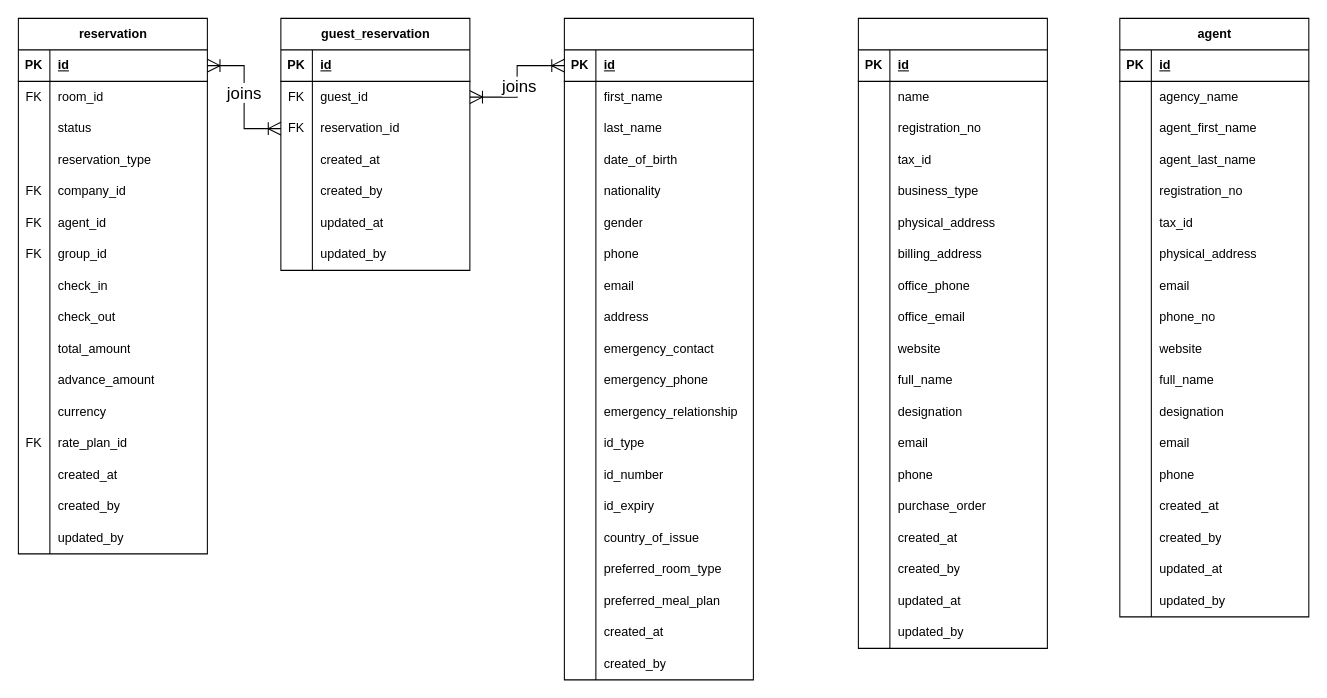
Some shapes in this 1327 by 698 pixel diagram are drawn without their labels. The box of each missing label's shape, as (x1, y1, x2, y2) in pixels:
company: (857, 17, 1047, 648)
guest: (563, 17, 753, 680)
